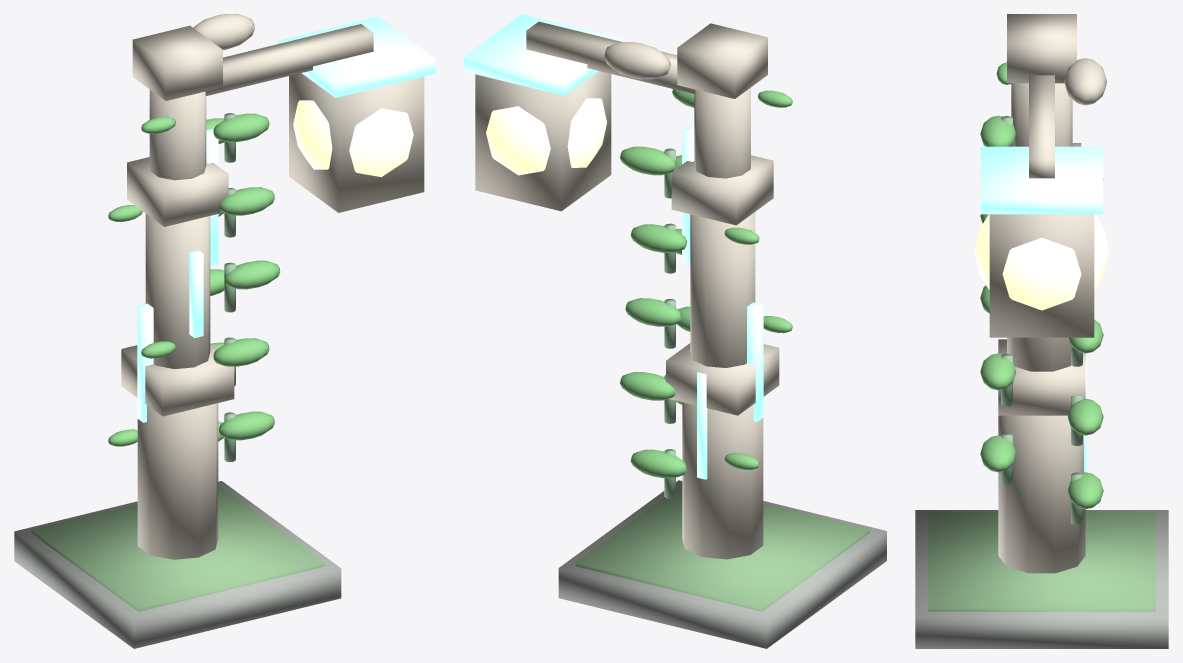
Rendered from cozy_garden_lamp_A.glb.
The picture shows the model from 3 angles, left to right: view 1: azimuth 30°, elevation 25°; view 2: azimuth 150°, elevation 25°; view 3: azimuth 270°, elevation 25°; orthographic projection. The views are drawn at different scales.
Visible parts, largest first — view 1: Grass, Base, PostLow, LanternBox, PostMid, LanternRim, Glow2, Cap, Arm, Collar2, Collar1, PostTop (+9 smaller); view 2: Grass, Base, PostLow, LanternBox, PostMid, LanternRim, Glow2, Cap, Collar2, PostTop, Collar1, Arm (+9 smaller); view 3: Grass, Base, PostLow, LanternBox, LanternRim, Glow2, Cap, Collar1, Arm, PostTop, PostMid, Scroll (+6 smaller).
Part boxes in pixels (left/top/right/bottom): Grass: left=31, top=485, right=324, bottom=611; Base: left=14, top=481, right=341, bottom=648; PostLow: left=137, top=349, right=218, bottom=559; LanternBox: left=289, top=73, right=424, bottom=212; PostMid: left=145, top=214, right=210, bottom=369; LanternRim: left=277, top=16, right=435, bottom=97; Glow2: left=293, top=100, right=413, bottom=177; Cap: left=132, top=25, right=222, bottom=100; Arm: left=205, top=24, right=373, bottom=95; Collar2: left=127, top=157, right=228, bottom=226; Collar1: left=121, top=344, right=234, bottom=416; PostTop: left=149, top=90, right=206, bottom=180; Grass: left=575, top=484, right=869, bottom=611; Base: left=558, top=480, right=886, bottom=648; PostLow: left=682, top=402, right=763, bottom=559; LanternBox: left=475, top=71, right=611, bottom=211; PostMid: left=690, top=212, right=755, bottom=367; LanternRim: left=464, top=14, right=622, bottom=95; Glow2: left=486, top=98, right=606, bottom=175; Cap: left=677, top=23, right=767, bottom=98; Collar2: left=671, top=155, right=773, bottom=225; PostTop: left=694, top=87, right=750, bottom=178; Collar1: left=666, top=343, right=779, bottom=415; Arm: left=526, top=21, right=694, bottom=94; Grass: left=928, top=511, right=1155, bottom=611; Base: left=915, top=510, right=1168, bottom=648; PostLow: left=998, top=415, right=1085, bottom=573; LanternBox: left=989, top=214, right=1094, bottom=337; LanternRim: left=980, top=146, right=1103, bottom=214; Glow2: left=974, top=214, right=1109, bottom=310; Cap: left=1007, top=14, right=1076, bottom=83; Collar1: left=998, top=339, right=1085, bottom=415; Arm: left=1029, top=75, right=1054, bottom=178; PostTop: left=1011, top=83, right=1072, bottom=146; PostMid: left=1007, top=337, right=1070, bottom=371; Scroll: left=1064, top=58, right=1106, bottom=105.
Size of the model in its own units: 0.944 by 1.43 by 0.58.
